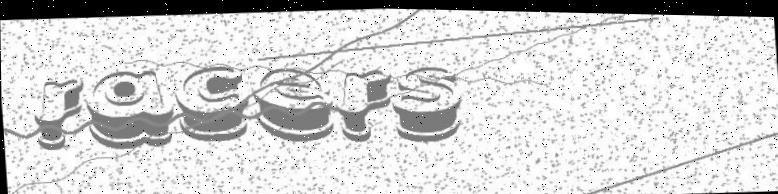a: (85, 66, 174, 150)
c: (170, 57, 249, 144)
e: (248, 58, 338, 144)
r: (29, 72, 92, 151), (335, 64, 395, 143)
s: (391, 60, 465, 142)
